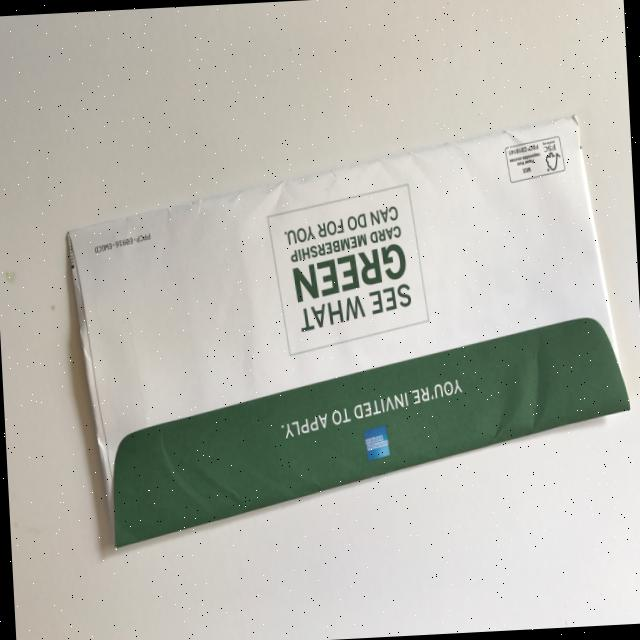paper: (61, 111, 636, 550)
